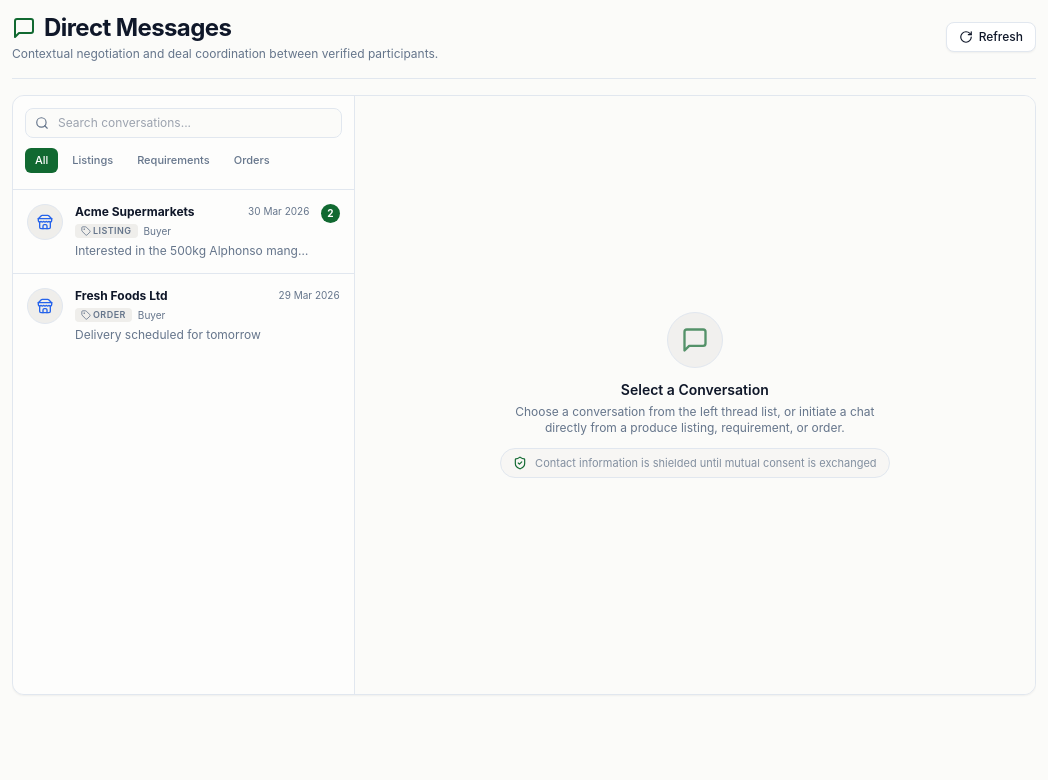
MessagesPage › filters conversations by search query
Expected: the text "Acme Supermarkets" is shown, x1=75 y1=204 x2=195 y2=220
In the field with placeholder "Search conversations...": [183, 123] box x1=25 y1=108 x2=342 y2=138, type "Fresh Foods"
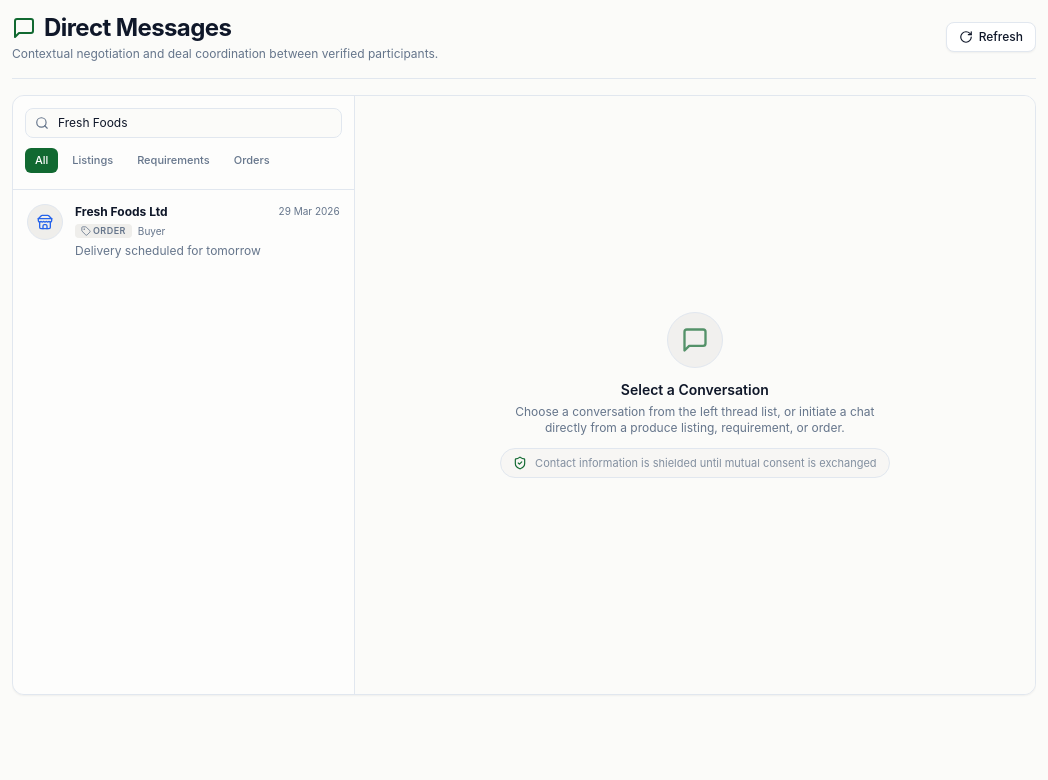
Expected: the text "Fresh Foods Ltd" is shown, x1=75 y1=204 x2=168 y2=220
Result: the button "Acme Supermarkets" is gone
